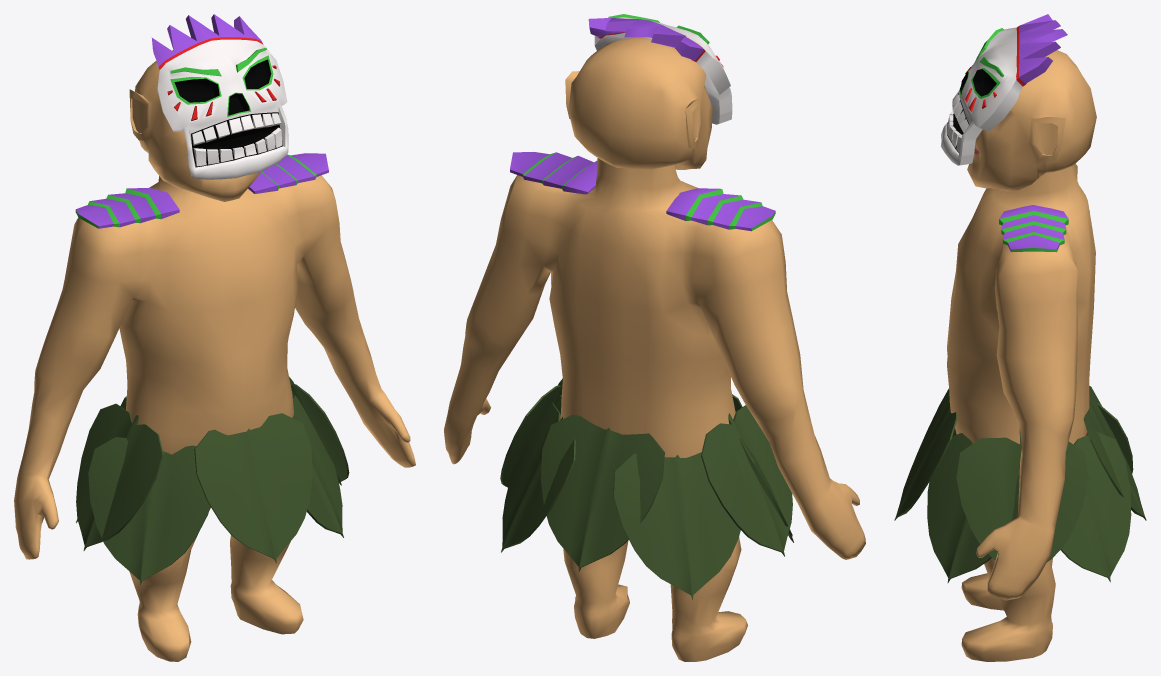
The model's file is locals_max_01.fbx.
3 renders of one model, left to right at view 1: azimuth 30°, elevation 25°; view 2: azimuth 150°, elevation 25°; view 3: azimuth 270°, elevation 25°, orthographic. The views are drawn at different scales.
Visible parts, largest first — view 1: light; view 2: light; view 3: light.
Part boxes in pixels (<box>): light: <box>14,14,415,661</box>; light: <box>444,14,865,661</box>; light: <box>894,14,1146,661</box>.
Bounding box in the file's own units: 483 × 719 × 274.
